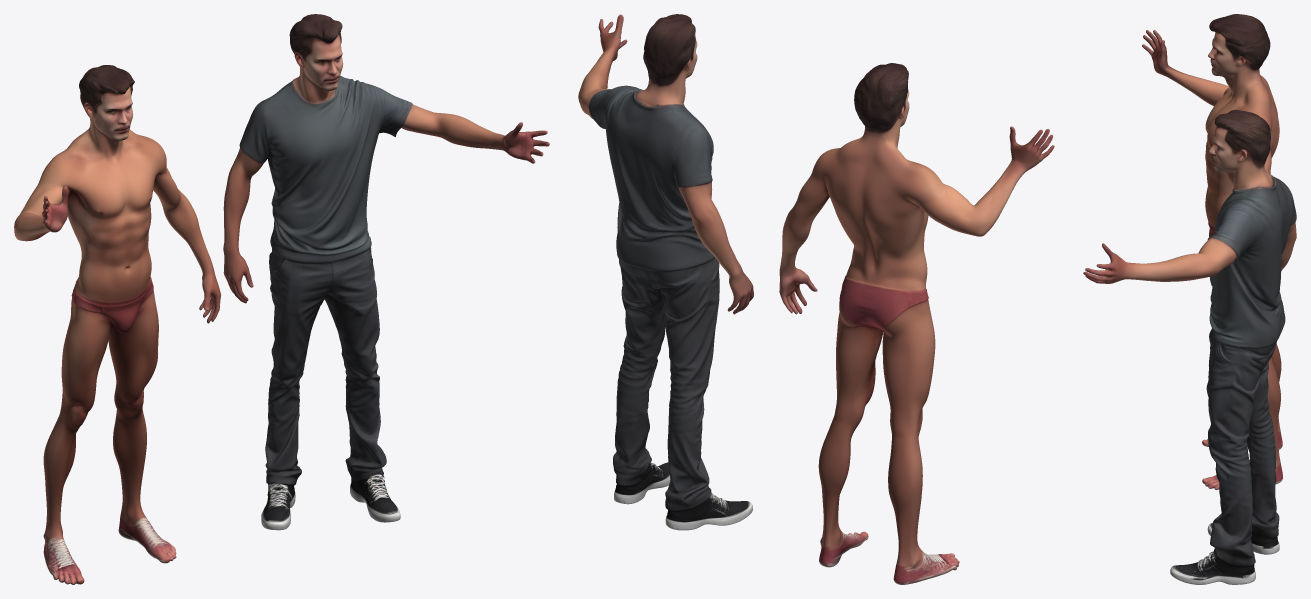
Rendered from modyboy.glb.
The picture shows the model from 3 angles, left to right: view 1: azimuth 30°, elevation 25°; view 2: azimuth 150°, elevation 25°; view 3: azimuth 270°, elevation 25°; orthographic projection. The views are drawn at different scales.
Size of the model in its own units: 1.9 by 1.87 by 0.8038.
Materials: 1 (1 with a texture image).
